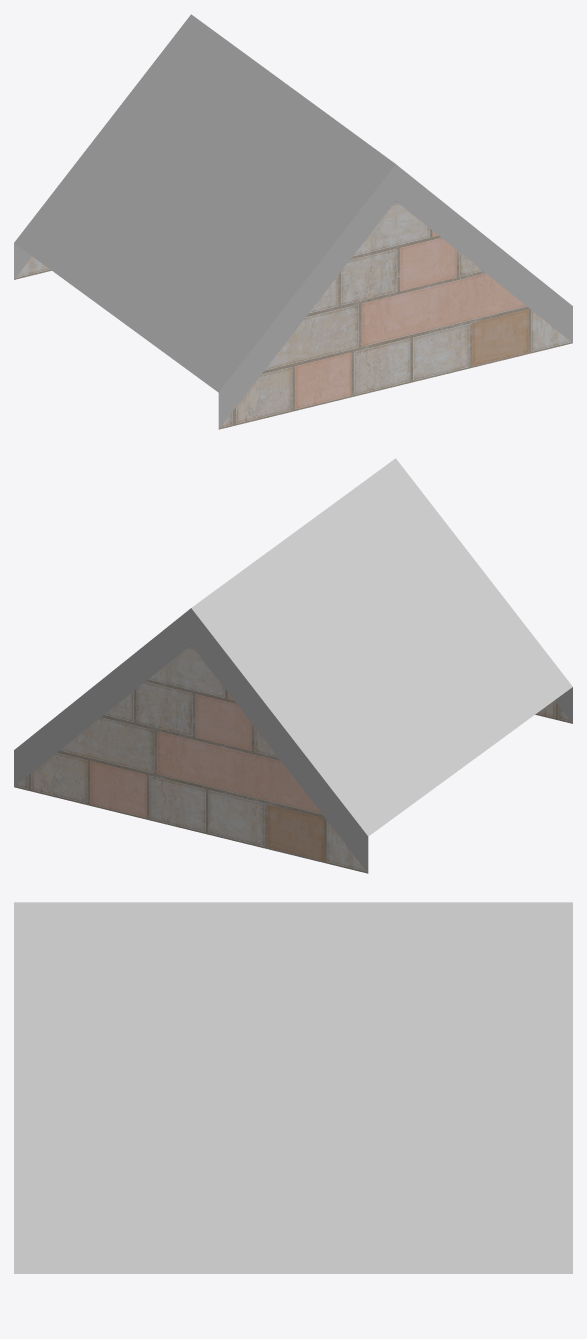
Rendered from Roof_Top.fbx.
3 views of the same model, one above another, from view 1: azimuth 30°, elevation 25°; view 2: azimuth 150°, elevation 25°; view 3: azimuth 270°, elevation 25° (orthographic). The views are drawn at different scales.
Visible parts, largest first — view 1: Roof_Top; view 2: Roof_Top; view 3: Roof_Top.
Boxes of the visible parts, x1,y1,x2,y2 form: Roof_Top: [14, 14, 572, 429]; Roof_Top: [14, 458, 572, 873]; Roof_Top: [14, 902, 572, 1273].
Bounding box in the file's own units: 200 × 120 × 200.
